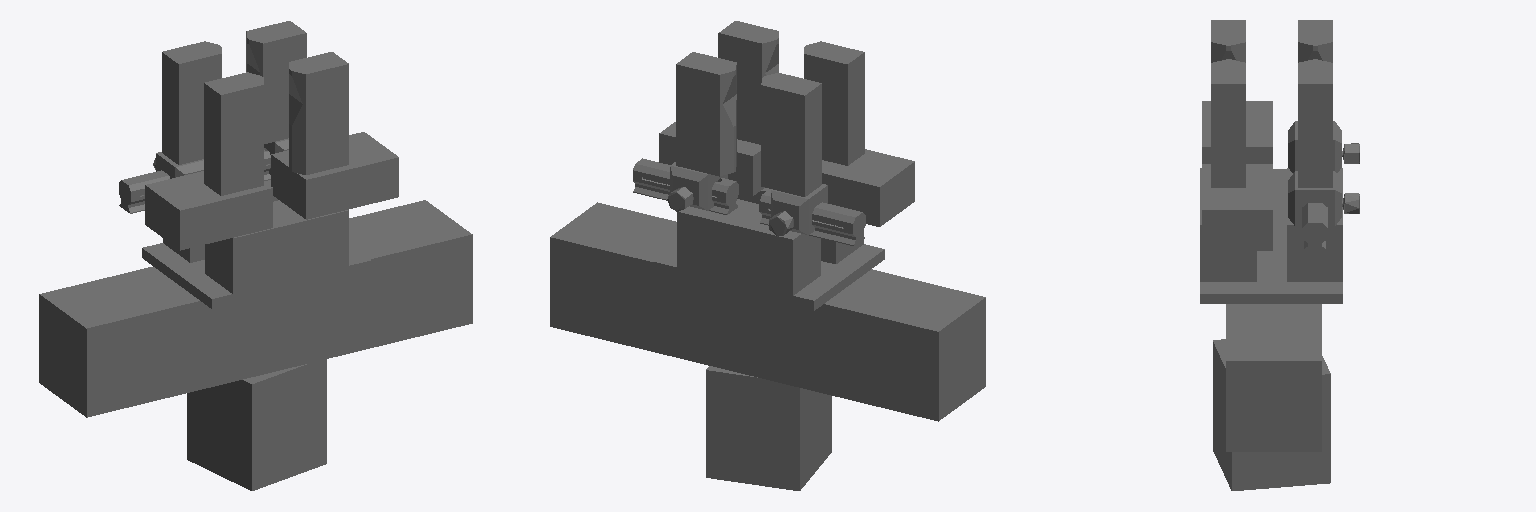
The robot description file, URDF, robot "Princeton_gripper":
<?xml version="1.0" ?>
<!-- =================================================================================== -->
<!-- |    This document was autogenerated by xacro from abb_irb4600_40_255.xacro       | -->
<!-- |    EDITING THIS FILE BY HAND IS NOT RECOMMENDED                                 | -->
<!-- =================================================================================== -->
<robot name="Princeton_gripper" xmlns:xacro="http://wiki.ros.org/xacro">
  <!-- Conversion were obtained from http://www.e-paint.co.uk/Lab_values.asp
       unless otherwise stated. -->
  <link name="tool0"/>

   <!-- ! end effector-->
   <link name="eef_base_link">
     <visual>
       <origin rpy="0 0 -1.57079632679" xyz="0.0 0.0 0.0"/>
       <geometry>
         <mesh filename="./princeton_gripper_visual_m.stl"/>
       </geometry>
       <material name="grey">
         <color rgba="0.5 0.5 0.5 1.0"/>
       </material>
     </visual>
     <collision>
       <origin rpy="0 0 -1.57079632679" xyz="0.0 0.0 0.0"/>
       <geometry>
         <mesh filename="./princeton_gripper_collision_m.stl"/>
       </geometry>
       <material name="red">
         <color rgba="1 0 0 1"/>
       </material>
     </collision>
   </link>

   <link name="eef_tcp_frame"/>

  <joint name="eef_base_to_tcp" type="fixed">
    <origin rpy="0 0 1.5708" xyz="0.0 0.0 0.3705"/>
    <parent link="eef_base_link"/>
    <child link="eef_tcp_frame"/>
  </joint>

   <joint name="ee_to_robot" type="fixed">
     <parent link="tool0"/>
     <child link="eef_base_link"/>
     <origin rpy="0 0 0" xyz="0 0 0"/>
   </joint>

</robot>

--- Render facts (derived) ---
The picture shows the robot from 3 angles, left to right: view 1: azimuth 30°, elevation 25°; view 2: azimuth 150°, elevation 25°; view 3: azimuth 270°, elevation 25°; orthographic projection.
Robot: Princeton_gripper — 3 links, 2 joints (2 fixed); root link tool0; default pose: every joint at zero.
Visible links, largest first — view 1: eef_base_link; view 2: eef_base_link; view 3: eef_base_link.
Link boxes in pixels (x1,y1,x2,y2): eef_base_link: [39, 21, 472, 490]; eef_base_link: [550, 21, 985, 490]; eef_base_link: [1200, 20, 1359, 490].
Bounding box of the posed robot: 0.4 × 0.1405 × 0.4005 m (x, y, z).
Meshes: 1 distinct files referenced, 1 mesh visuals loaded (1 binary STL).